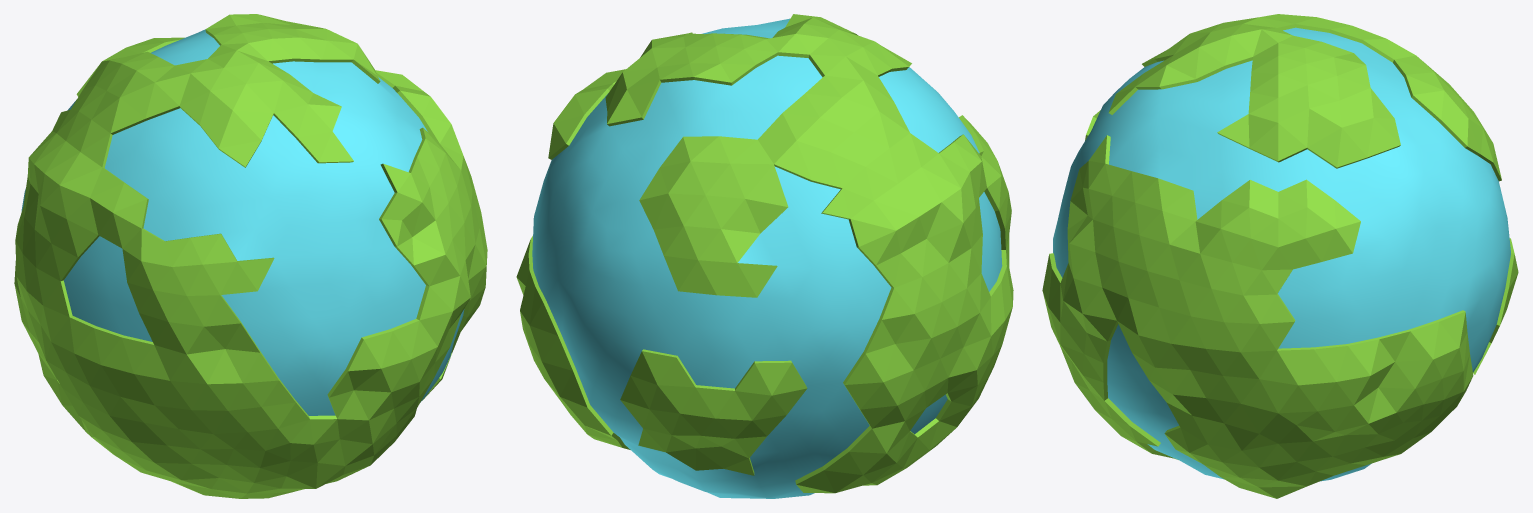
Rendered from earth.glb.
The picture shows the model from 3 angles, left to right: view 1: azimuth 30°, elevation 25°; view 2: azimuth 150°, elevation 25°; view 3: azimuth 270°, elevation 25°; orthographic projection. The views are drawn at different scales.
Parts seen in each view (by area): view 1: Icosphere; view 2: Icosphere; view 3: Icosphere.
Boxes of the visible parts, x1,y1,x2,y2 form: Icosphere: (14, 14, 487, 498); Icosphere: (516, 14, 1013, 498); Icosphere: (1042, 14, 1518, 498).
Bounding box in the file's own units: 34.15 × 34.22 × 34.19.
